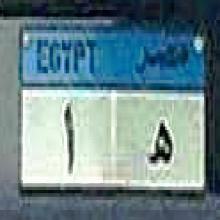1: (63, 100, 78, 176)
haa: (145, 109, 175, 174)
